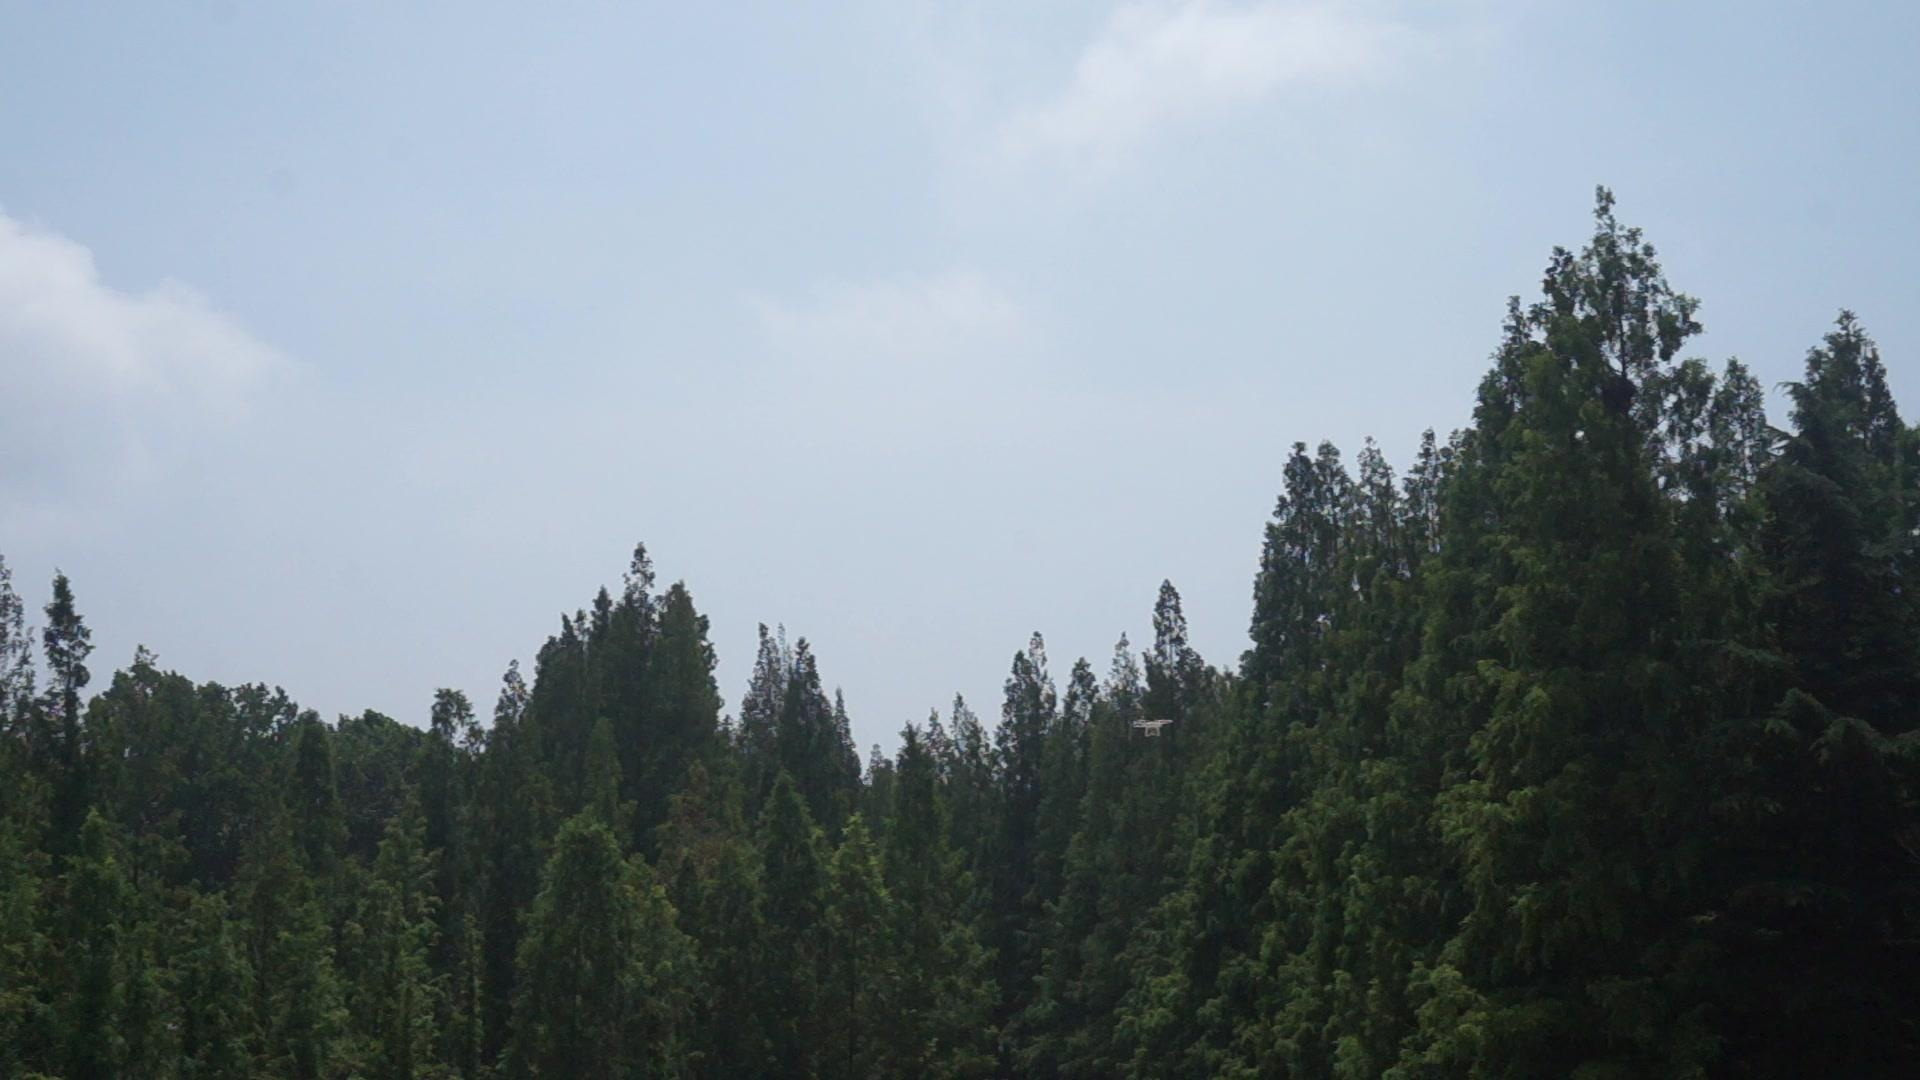UAV: (1133, 720, 1175, 738)
